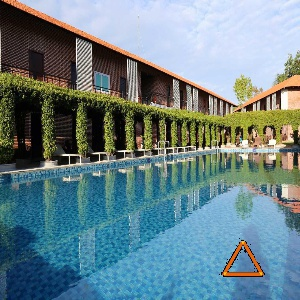triangle: (220, 239, 266, 279)
